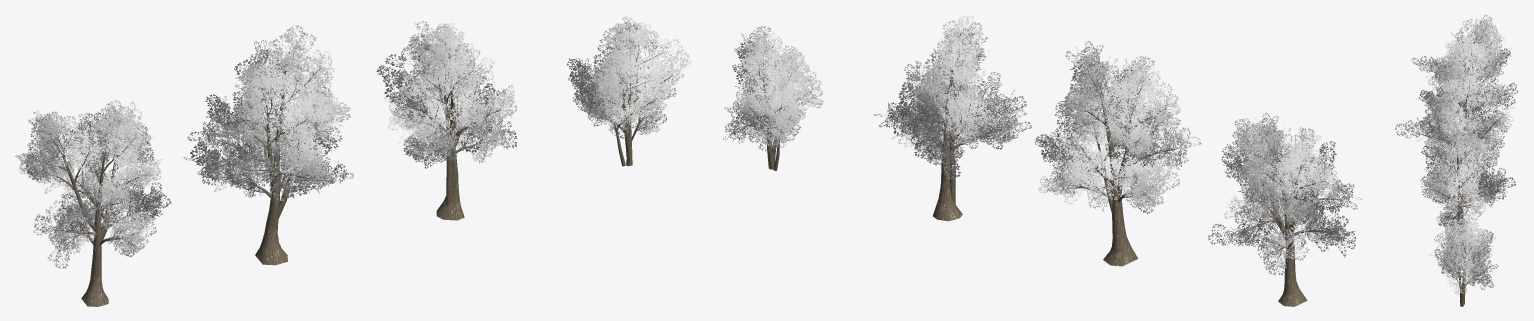
File: 1 Thick Trees Beta A.fbx
3 views of the same model, side by side, from view 1: azimuth 30°, elevation 25°; view 2: azimuth 150°, elevation 25°; view 3: azimuth 270°, elevation 25° (orthographic). The views are drawn at different scales.
Parts seen in each view (by area): view 1: leaves.067, leaves.063, leaves.078, leaves.051, leaves.064, leaves.075, leaves.061, leaves.059, leaves.060, leaves.073, leaves.057, leaves.058 (+23 smaller); view 2: leaves.063, leaves.067, leaves.078, leaves.051, leaves.062, leaves.061, leaves.060, leaves.059, leaves.075, leaves.053, leaves.057, leaves.073 (+19 smaller); view 3: leaves.067, leaves.078, leaves.061, leaves.060, leaves.063, leaves.059, leaves.073, leaves.051, leaves.074, leaves.062, leaves.057, leaves.072 (+21 smaller).
Part boxes in pixels (x1=…): leaves.067: x1=376, y1=24, x2=517, y2=153; leaves.063: x1=205, y1=62, x2=324, y2=147; leaves.078: x1=567, y1=15, x2=691, y2=108; leaves.051: x1=15, y1=110, x2=101, y2=194; leaves.064: x1=225, y1=130, x2=338, y2=201; leaves.075: x1=572, y1=53, x2=671, y2=122; leaves.061: x1=234, y1=25, x2=334, y2=109; leaves.059: x1=77, y1=102, x2=162, y2=201; leaves.060: x1=266, y1=78, x2=350, y2=175; leaves.073: x1=409, y1=21, x2=495, y2=95; leaves.057: x1=62, y1=100, x2=148, y2=172; leaves.058: x1=54, y1=172, x2=139, y2=233; leaves.063: x1=1105, y1=56, x2=1180, y2=164; leaves.067: x1=898, y1=34, x2=987, y2=147; leaves.078: x1=732, y1=26, x2=813, y2=135; leaves.051: x1=1269, y1=127, x2=1338, y2=226; leaves.062: x1=1056, y1=128, x2=1147, y2=212; leaves.061: x1=1059, y1=41, x2=1119, y2=141; leaves.060: x1=1035, y1=75, x2=1149, y2=178; leaves.059: x1=1221, y1=118, x2=1292, y2=203; leaves.075: x1=761, y1=48, x2=823, y2=138; leaves.053: x1=1208, y1=179, x2=1284, y2=248; leaves.057: x1=1240, y1=113, x2=1292, y2=195; leaves.073: x1=937, y1=15, x2=988, y2=85; leaves.067: x1=1420, y1=135, x2=1499, y2=209; leaves.078: x1=1437, y1=213, x2=1496, y2=277; leaves.061: x1=1438, y1=71, x2=1506, y2=117; leaves.060: x1=1425, y1=100, x2=1486, y2=164; leaves.063: x1=1421, y1=62, x2=1491, y2=127; leaves.059: x1=1433, y1=41, x2=1504, y2=85; leaves.073: x1=1421, y1=120, x2=1480, y2=170; leaves.051: x1=1450, y1=14, x2=1511, y2=79; leaves.074: x1=1442, y1=159, x2=1485, y2=220; leaves.062: x1=1469, y1=106, x2=1513, y2=156; leaves.057: x1=1442, y1=33, x2=1500, y2=73; leaves.072: x1=1471, y1=165, x2=1515, y2=200.
Bounding box in the file's own units: 7224 × 2347 × 1940.
